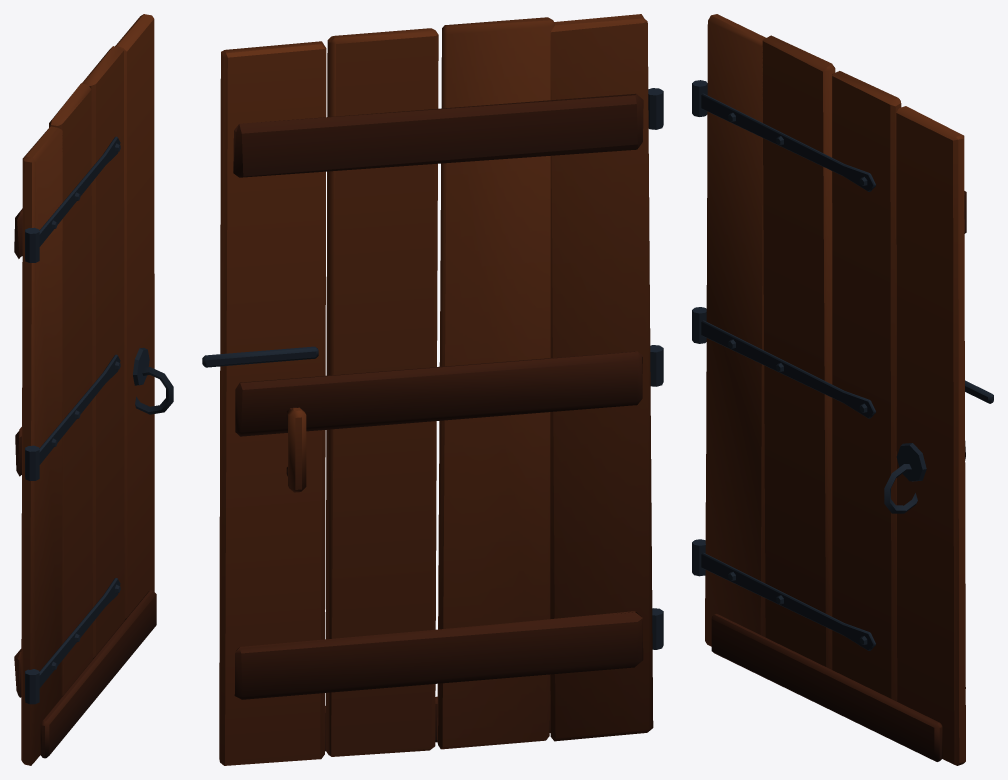
The model's file is Kapi_Rig.fbx.
The picture shows the model from 3 angles, left to right: view 1: azimuth 30°, elevation 25°; view 2: azimuth 150°, elevation 25°; view 3: azimuth 270°, elevation 25°; orthographic projection. The views are drawn at different scales.
Visible parts, largest first — view 1: Kapi_Kanat; view 2: Kapi_Kanat; view 3: Kapi_Kanat.
Boxes of the visible parts, x1,y1,x2,y2 form: Kapi_Kanat: (14,14,173,765); Kapi_Kanat: (202,14,663,765); Kapi_Kanat: (692,14,993,765).
Bounding box in the file's own units: 0.9897 × 2.31 × 0.9888.
